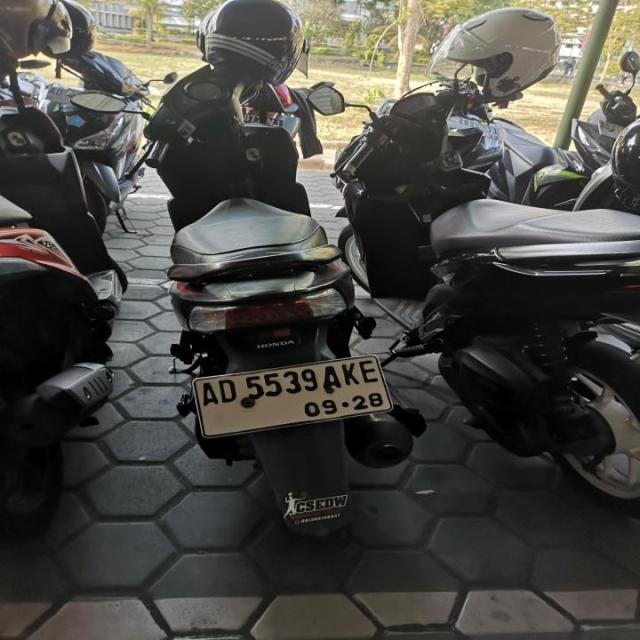License Plate: (190, 355, 393, 442)
